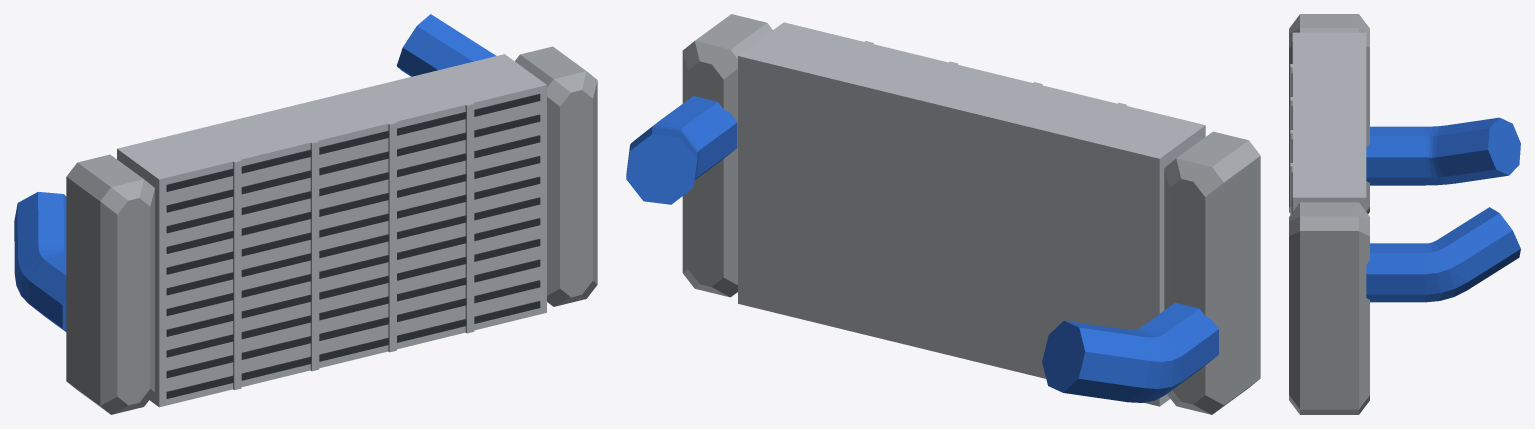
Rendered from hana_roadster.glb.
The picture shows the model from 3 angles, left to right: view 1: azimuth 30°, elevation 25°; view 2: azimuth 150°, elevation 25°; view 3: azimuth 270°, elevation 25°; orthographic projection. The views are drawn at different scales.
Parts seen in each view (by area): view 1: model; view 2: model; view 3: model.
Boxes of the visible parts, x1,y1,x2,y2 form: model: (14, 14, 597, 414); model: (626, 14, 1260, 414); model: (1289, 14, 1520, 414).
Size of the model in its own units: 0.544 by 0.238 by 0.2519.
2 materials, 1 textured.
